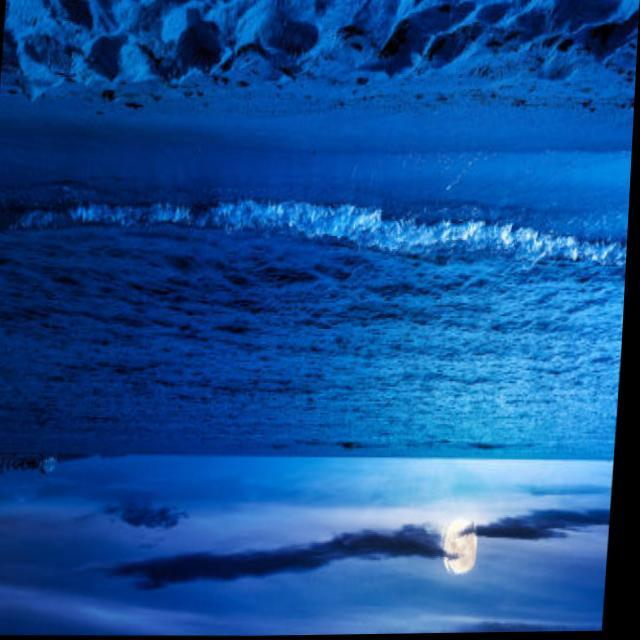moon: (442, 511, 484, 578)
